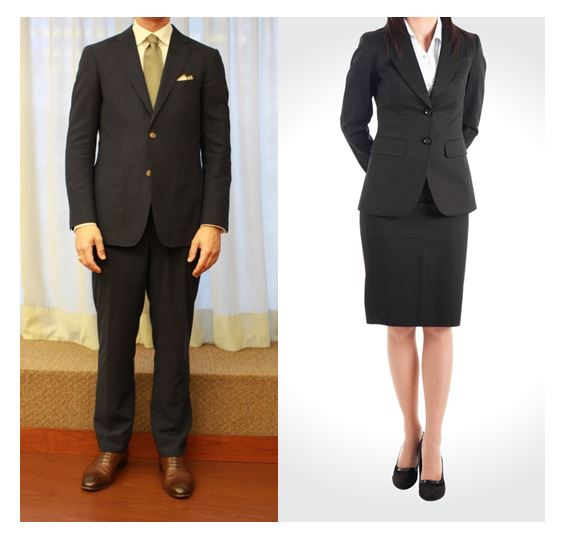F_M_suit jacket: (64, 28, 232, 245)
F_W_suit jacket: (335, 29, 491, 216)
F_dress pants: (87, 235, 199, 459)
F_tailored skirt: (349, 202, 477, 332)
F_tie: (135, 29, 171, 107)
